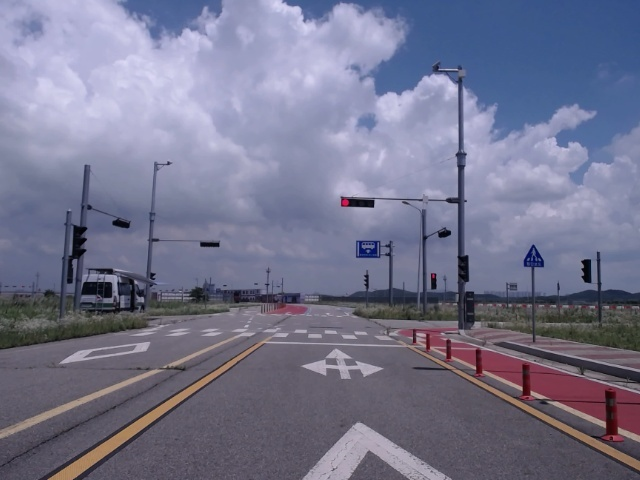red_4: (341, 199, 375, 207)
